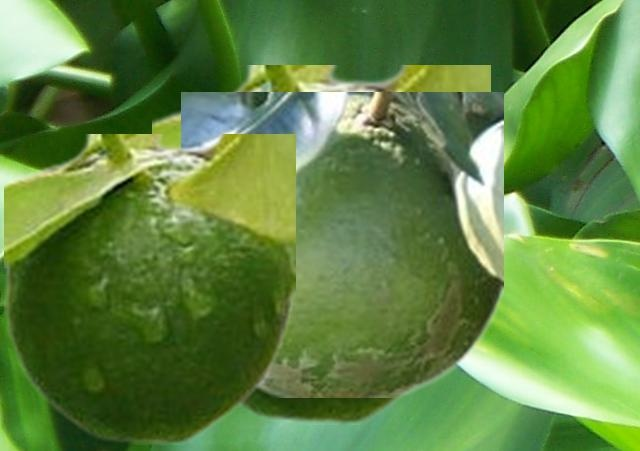dalandan: (152, 65, 489, 423), (181, 92, 502, 396), (4, 134, 294, 443)
